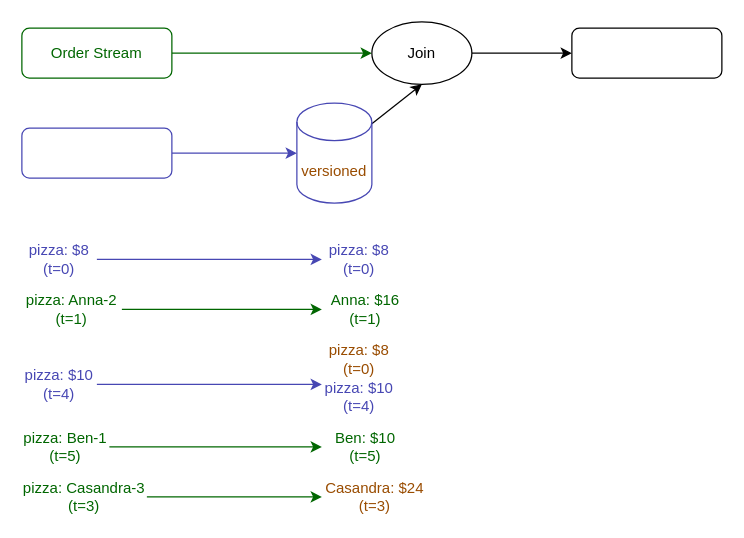
This 744x538 diagram has some shape labels left out. The box of each missing label's shape, as (x1, y1, x2, y2) in pixels:
Output Stream: (571, 27, 722, 78)
Price Table: (21, 127, 172, 178)
